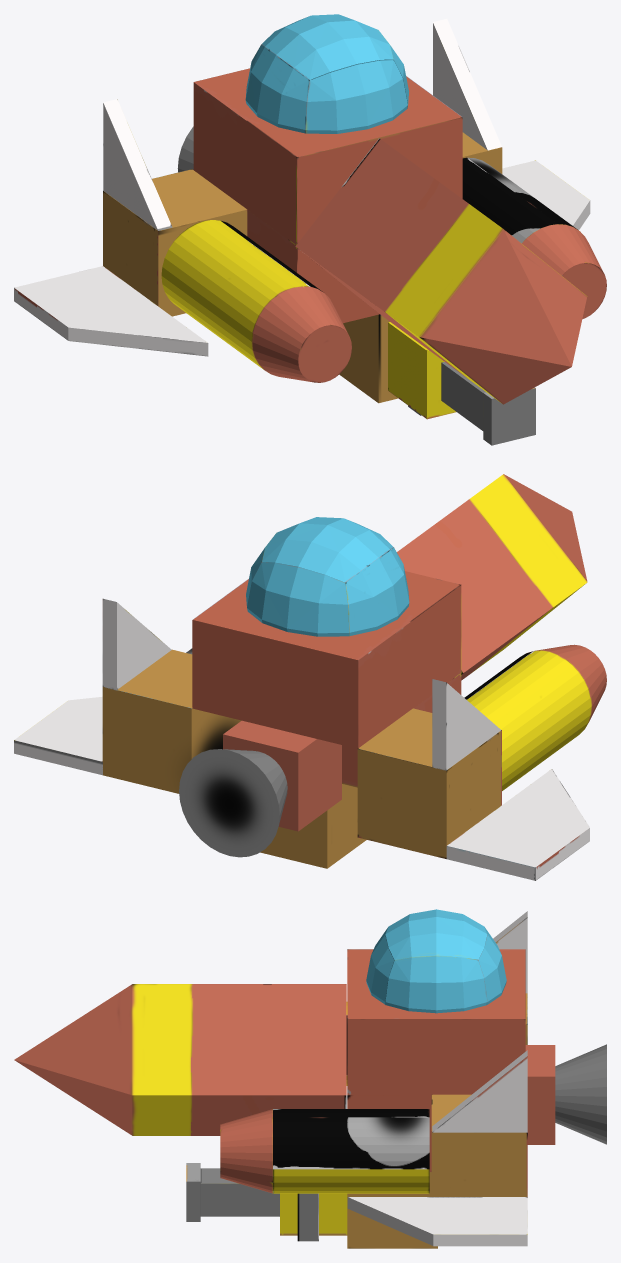
The model's file is gumiship.obj.
3 views of the same model, one above another, from view 1: azimuth 30°, elevation 25°; view 2: azimuth 150°, elevation 25°; view 3: azimuth 270°, elevation 25° (orthographic). The views are drawn at different scales.
Parts seen in each view (by area): view 1: 立方体.002; view 2: 立方体.002; view 3: 立方体.002.
Part boxes in pixels (<box>): 立方体.002: <box>14,14,606,445</box>; 立方体.002: <box>14,474,606,880</box>; 立方体.002: <box>14,909,606,1248</box>.
Size of the model in its own units: 5.44 by 3.42 by 6.2.
2 materials, 2 textured.
